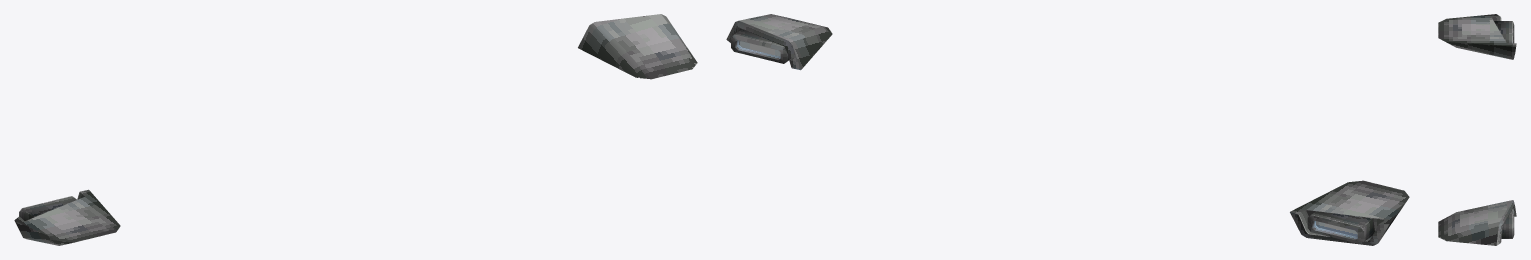
Rendered from xwing_booster_neg_s01_l1.fbx.
The picture shows the model from 3 angles, left to right: view 1: azimuth 30°, elevation 25°; view 2: azimuth 150°, elevation 25°; view 3: azimuth 270°, elevation 25°; orthographic projection. The views are drawn at different scales.
Visible parts, largest first — view 1: mesh_node; view 2: mesh_node; view 3: mesh_node.
Part boxes in pixels (x1,y1,x2,y2): mesh_node: (14, 14, 697, 245); mesh_node: (726, 14, 1409, 245); mesh_node: (1438, 14, 1516, 245).
Bounding box in the file's own units: 8.63 × 0.8791 × 1.15.
Materials: 1 (1 with a texture image).
